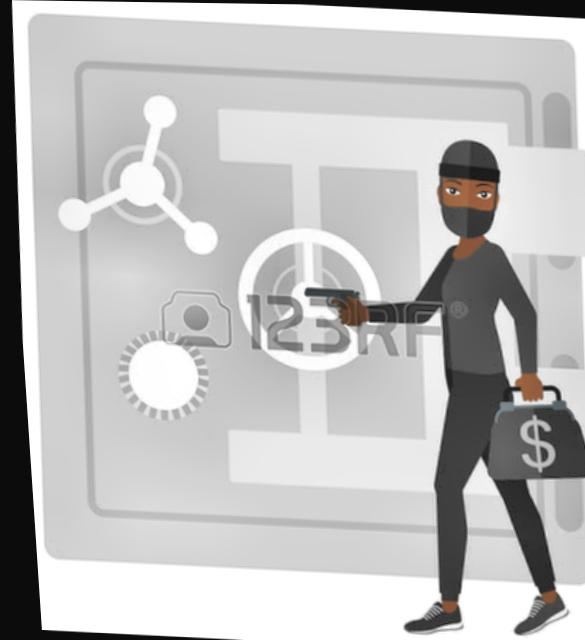pistol: (297, 282, 358, 320)
